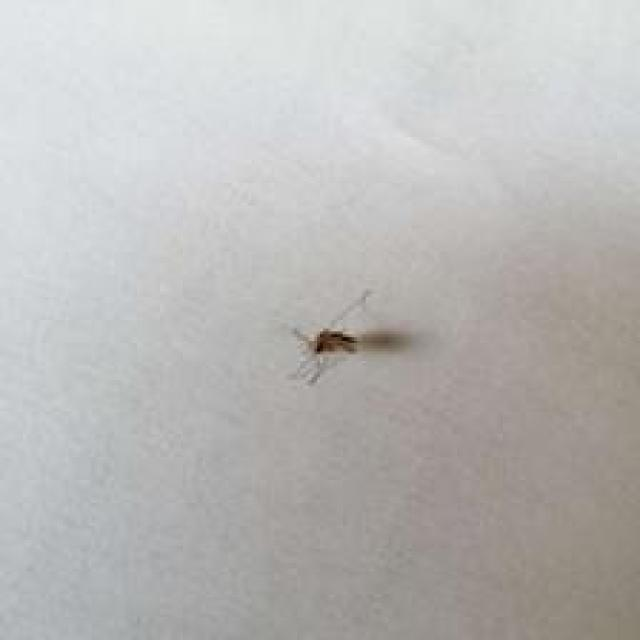Culex: (286, 287, 411, 387)
